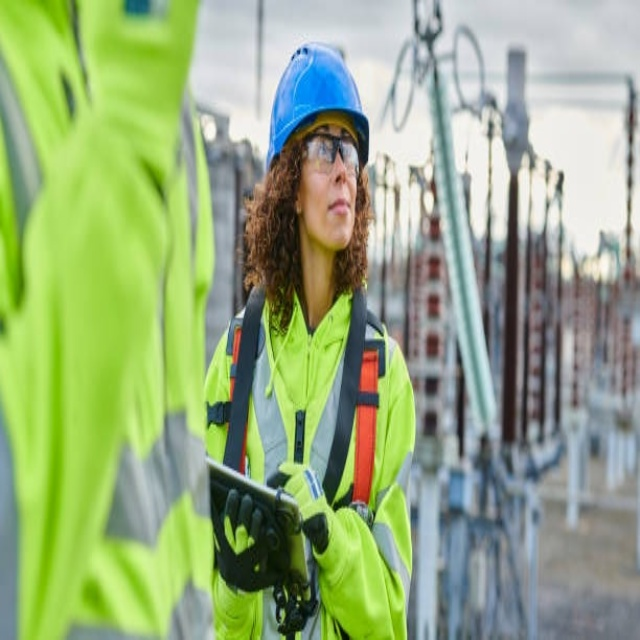Gafas: (274, 568, 320, 639), (301, 135, 361, 181)
Guantes: (219, 484, 289, 582), (277, 465, 332, 560)
Sin_mascara: (320, 190, 357, 241)
